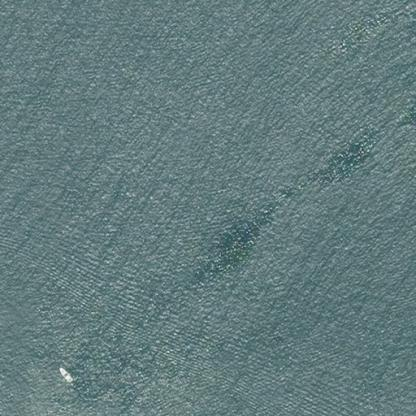ship: (53, 363, 77, 387)
